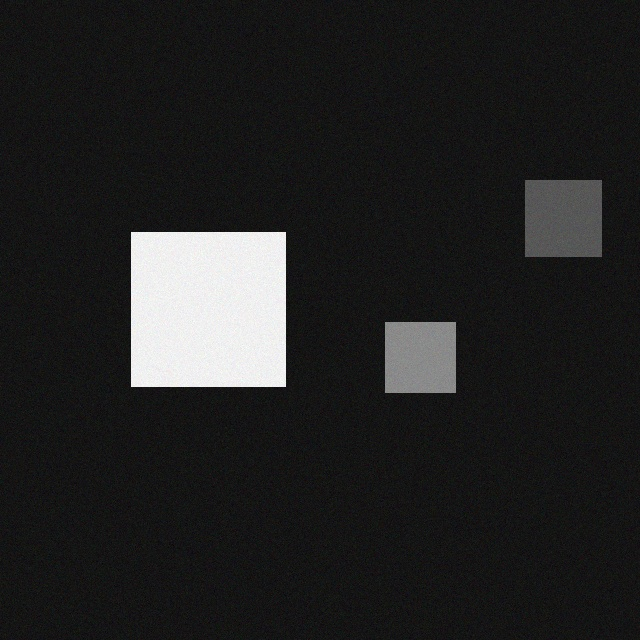square: (145, 226, 299, 380), (539, 174, 615, 250), (399, 316, 469, 386)
